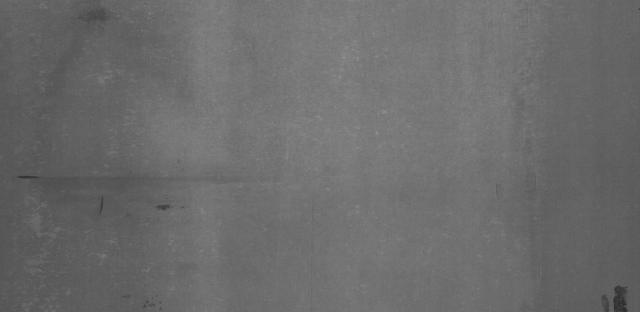oil_spot: (70, 5, 111, 38), (116, 285, 170, 310), (599, 284, 631, 312), (151, 196, 185, 216), (93, 193, 110, 216), (14, 174, 52, 183)
